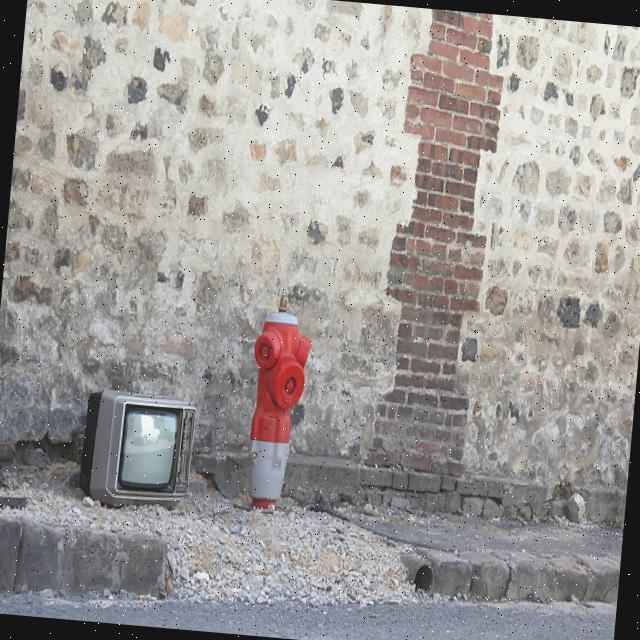fire_hydrant: (242, 296, 316, 510)
